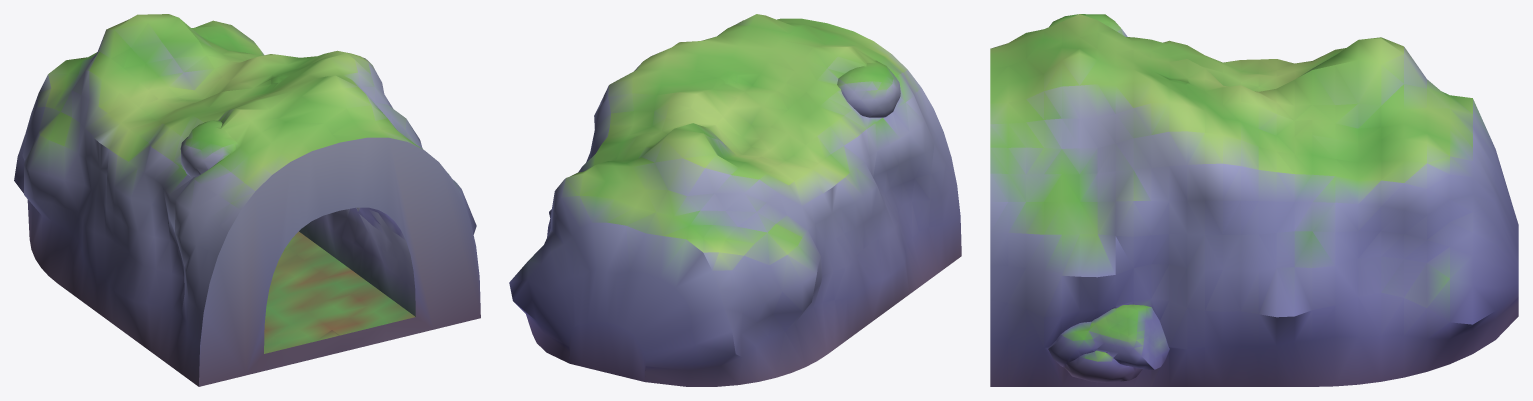
The model's file is verdant_cave_dead_end.glb.
The picture shows the model from 3 angles, left to right: view 1: azimuth 30°, elevation 25°; view 2: azimuth 150°, elevation 25°; view 3: azimuth 270°, elevation 25°; orthographic projection. The views are drawn at different scales.
Visible parts, largest first — view 1: verdant_cave_dead_end; view 2: verdant_cave_dead_end; view 3: verdant_cave_dead_end.
Part boxes in pixels (<box>): verdant_cave_dead_end: <box>14,14,480,386</box>; verdant_cave_dead_end: <box>509,14,961,386</box>; verdant_cave_dead_end: <box>990,14,1518,386</box>.
Bounding box in the file's own units: 12.02 × 8.45 × 14.76.
